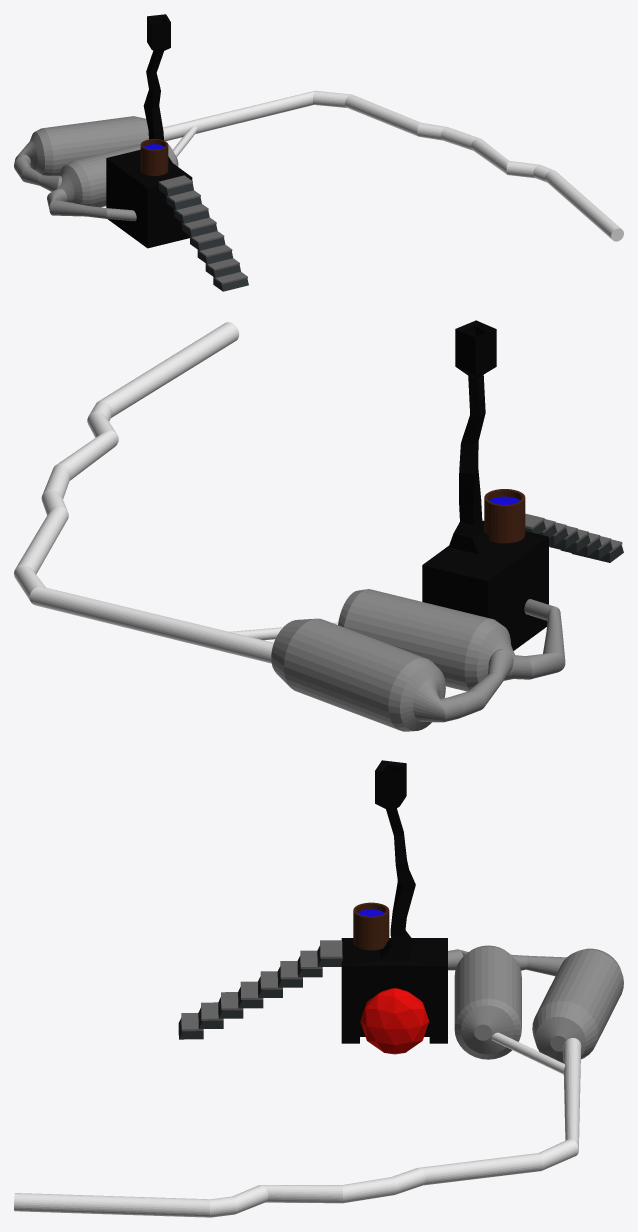
File: station_furnace.glb
3 views of the same model, one above another, from view 1: azimuth 30°, elevation 25°; view 2: azimuth 150°, elevation 25°; view 3: azimuth 270°, elevation 25° (orthographic). The views are drawn at different scales.
Parts seen in each view (by area): view 1: Cylinder.026, Cube.003, Cylinder.001, Cube.008, Cylinder, Cylinder.025; view 2: Cube.003, Cylinder.001, Cylinder.026, Cylinder, Cube.008, Cylinder.025; view 3: Cylinder.026, Cube.003, Cylinder.001, Cylinder, Cube.008, Icosphere.009, Cylinder.025, Cylinder.027.
Boxes of the visible parts, x1,y1,x2,y2 form: Cylinder.026: (163, 90, 623, 241); Cube.003: (106, 14, 192, 248); Cylinder.001: (14, 116, 148, 191); Cube.008: (158, 175, 248, 291); Cylinder: (47, 144, 178, 221); Cylinder.025: (140, 139, 168, 175); Cube.003: (422, 320, 548, 650); Cylinder.001: (271, 618, 513, 731); Cylinder.026: (14, 322, 273, 663); Cylinder: (338, 589, 565, 691); Cube.008: (525, 513, 623, 562); Cylinder.025: (484, 489, 525, 543); Cylinder.026: (14, 1038, 581, 1217); Cube.003: (341, 760, 447, 1043); Cylinder.001: (511, 948, 623, 1063); Cylinder: (448, 945, 521, 1059); Cube.008: (178, 940, 342, 1039); Icosphere.009: (360, 988, 429, 1054); Cylinder.025: (353, 902, 389, 950); Cylinder.027: (491, 1032, 564, 1074).
Size of the model in its own units: 17.31 by 8.8 by 17.14.
